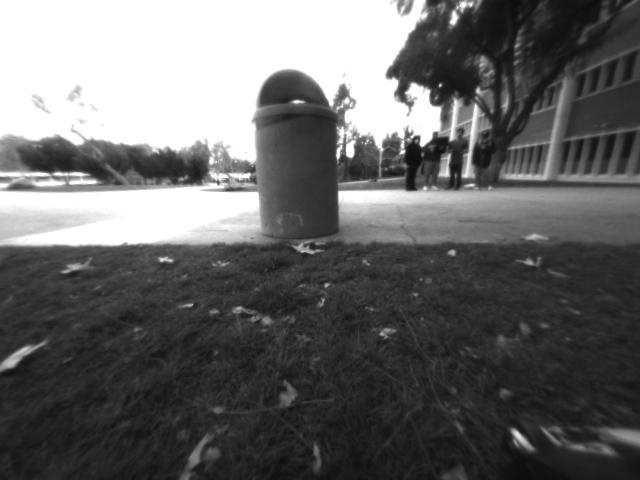trashcan: (245, 64, 352, 244)
